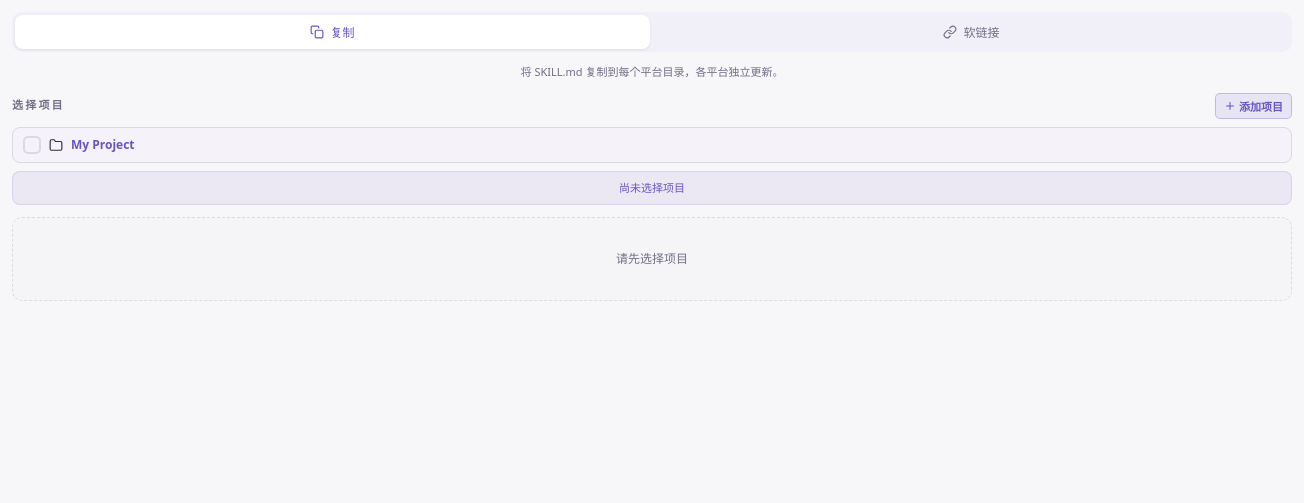
Scenario: ProjectDistPanel › shows agent directory options when project selected
The image size is (1304, 503).
Step 1. Click the element showing "My Project" → {"x": 652, "y": 144}, box [12, 126, 1292, 162]
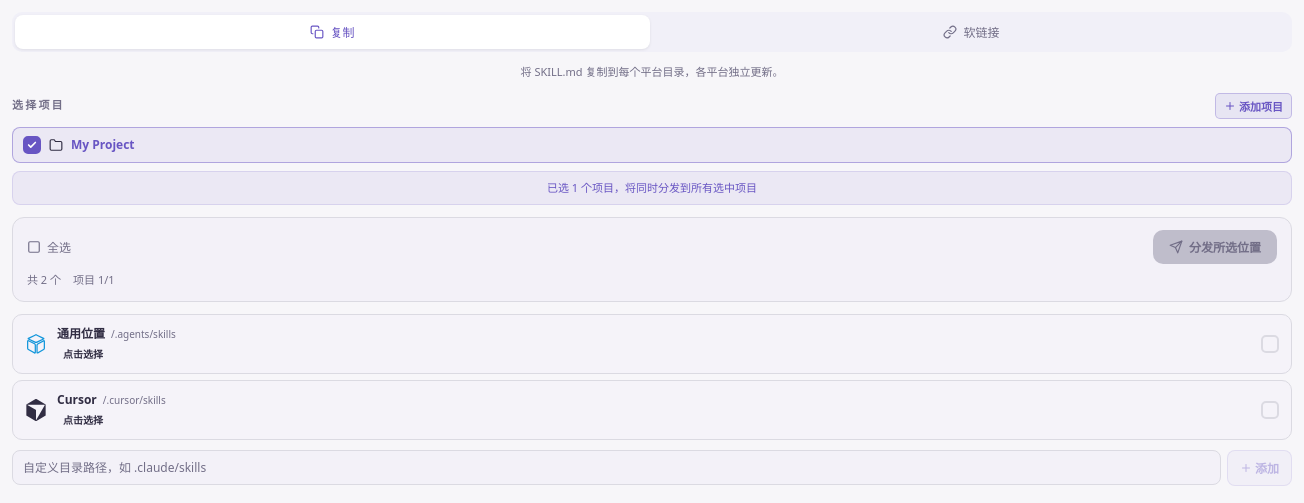
Now the element showing "通用位置 /.agents/skills 点击选择" is shown, box [12, 314, 1292, 374]
